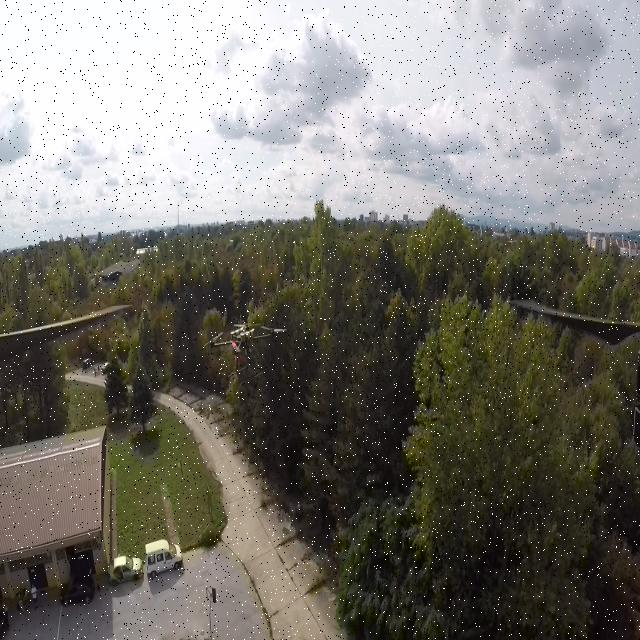UAV: (205, 316, 289, 386)
